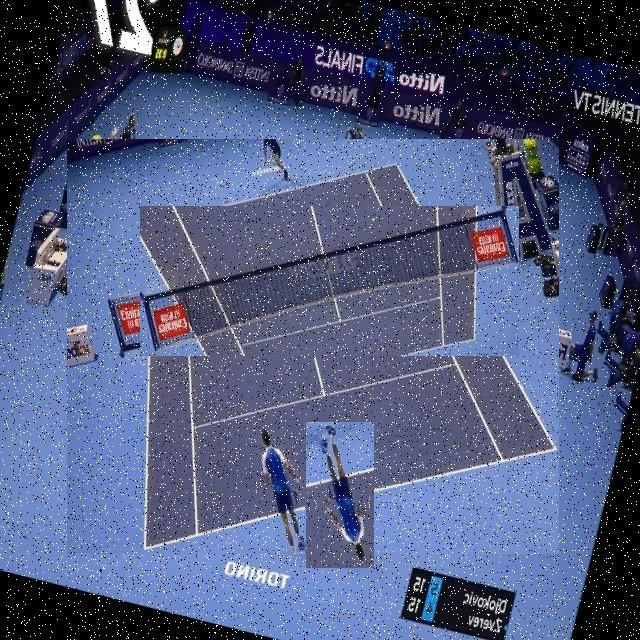court: (67, 139, 559, 554)
net: (140, 206, 519, 356)
player: (306, 422, 374, 568)
